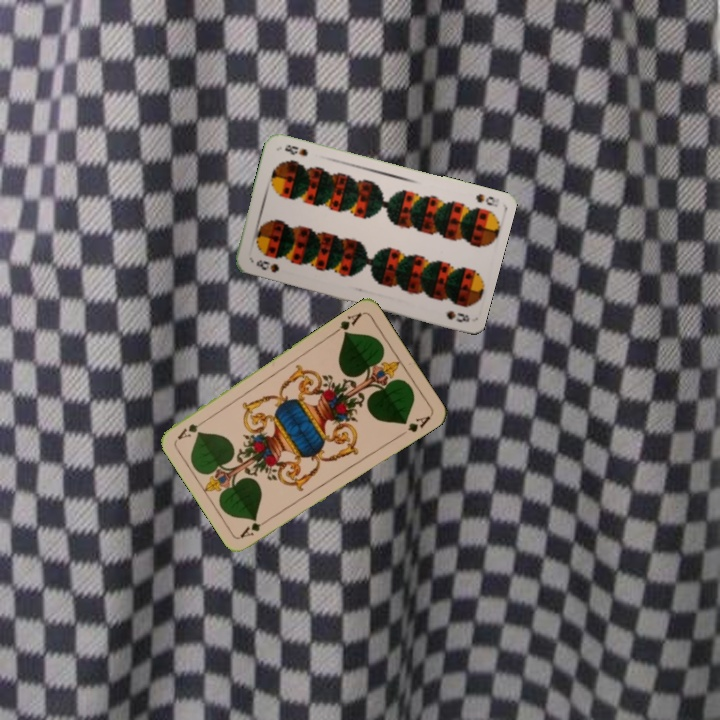GA: (329, 308, 364, 338), (236, 513, 273, 540)
S8: (252, 255, 282, 275), (472, 190, 502, 210)
